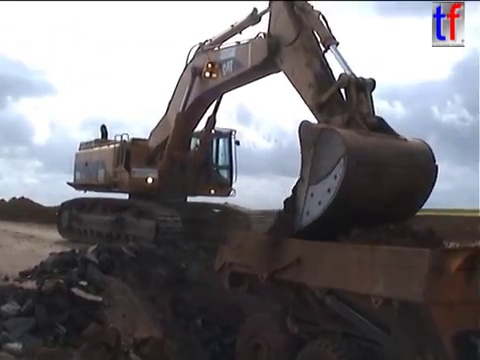excavator: (52, 1, 442, 254)
truck: (210, 211, 480, 360)
